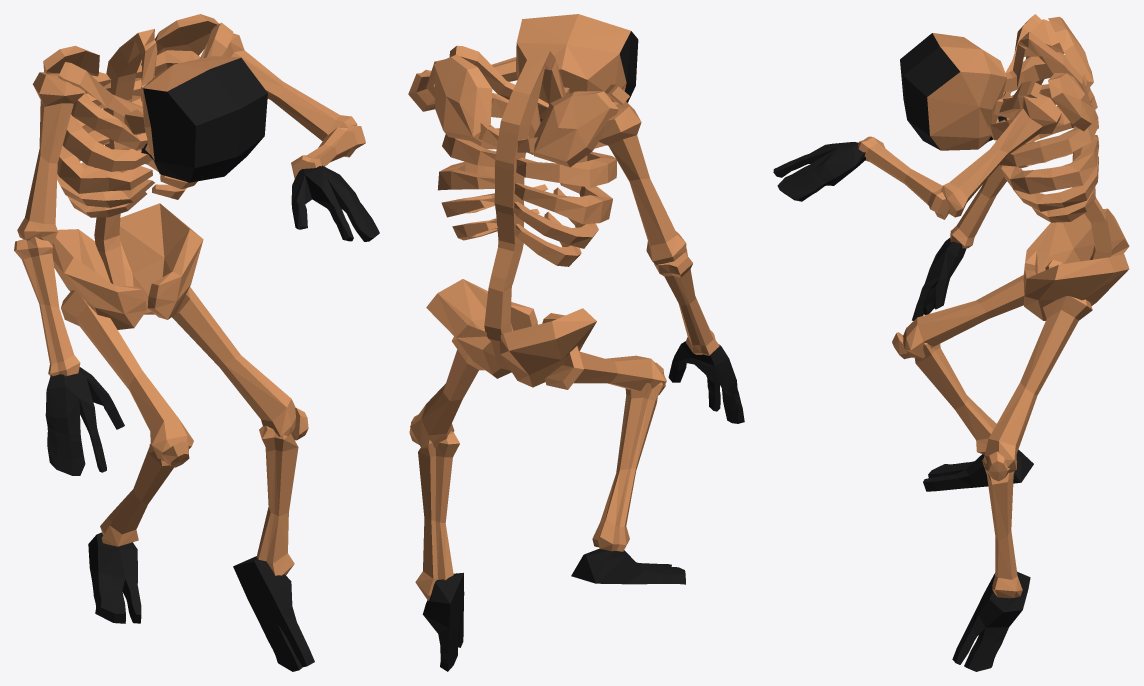
File: SM_Prop_Skeleton_Cage_01.glb
3 views of the same model, side by side, from view 1: azimuth 30°, elevation 25°; view 2: azimuth 150°, elevation 25°; view 3: azimuth 270°, elevation 25° (orthographic). The views are drawn at different scales.
Visible parts, largest first — view 1: SM_Prop_Skeleton_Cage_01_00; view 2: SM_Prop_Skeleton_Cage_01_00; view 3: SM_Prop_Skeleton_Cage_01_00.
Boxes of the visible parts, left/top/right/bottom form: SM_Prop_Skeleton_Cage_01_00: left=14, top=14, right=379, bottom=671; SM_Prop_Skeleton_Cage_01_00: left=408, top=14, right=744, bottom=671; SM_Prop_Skeleton_Cage_01_00: left=773, top=14, right=1129, bottom=671.
Size of the model in its own units: 0.7703 by 1.51 by 0.8345.
1 material, 1 textured.
